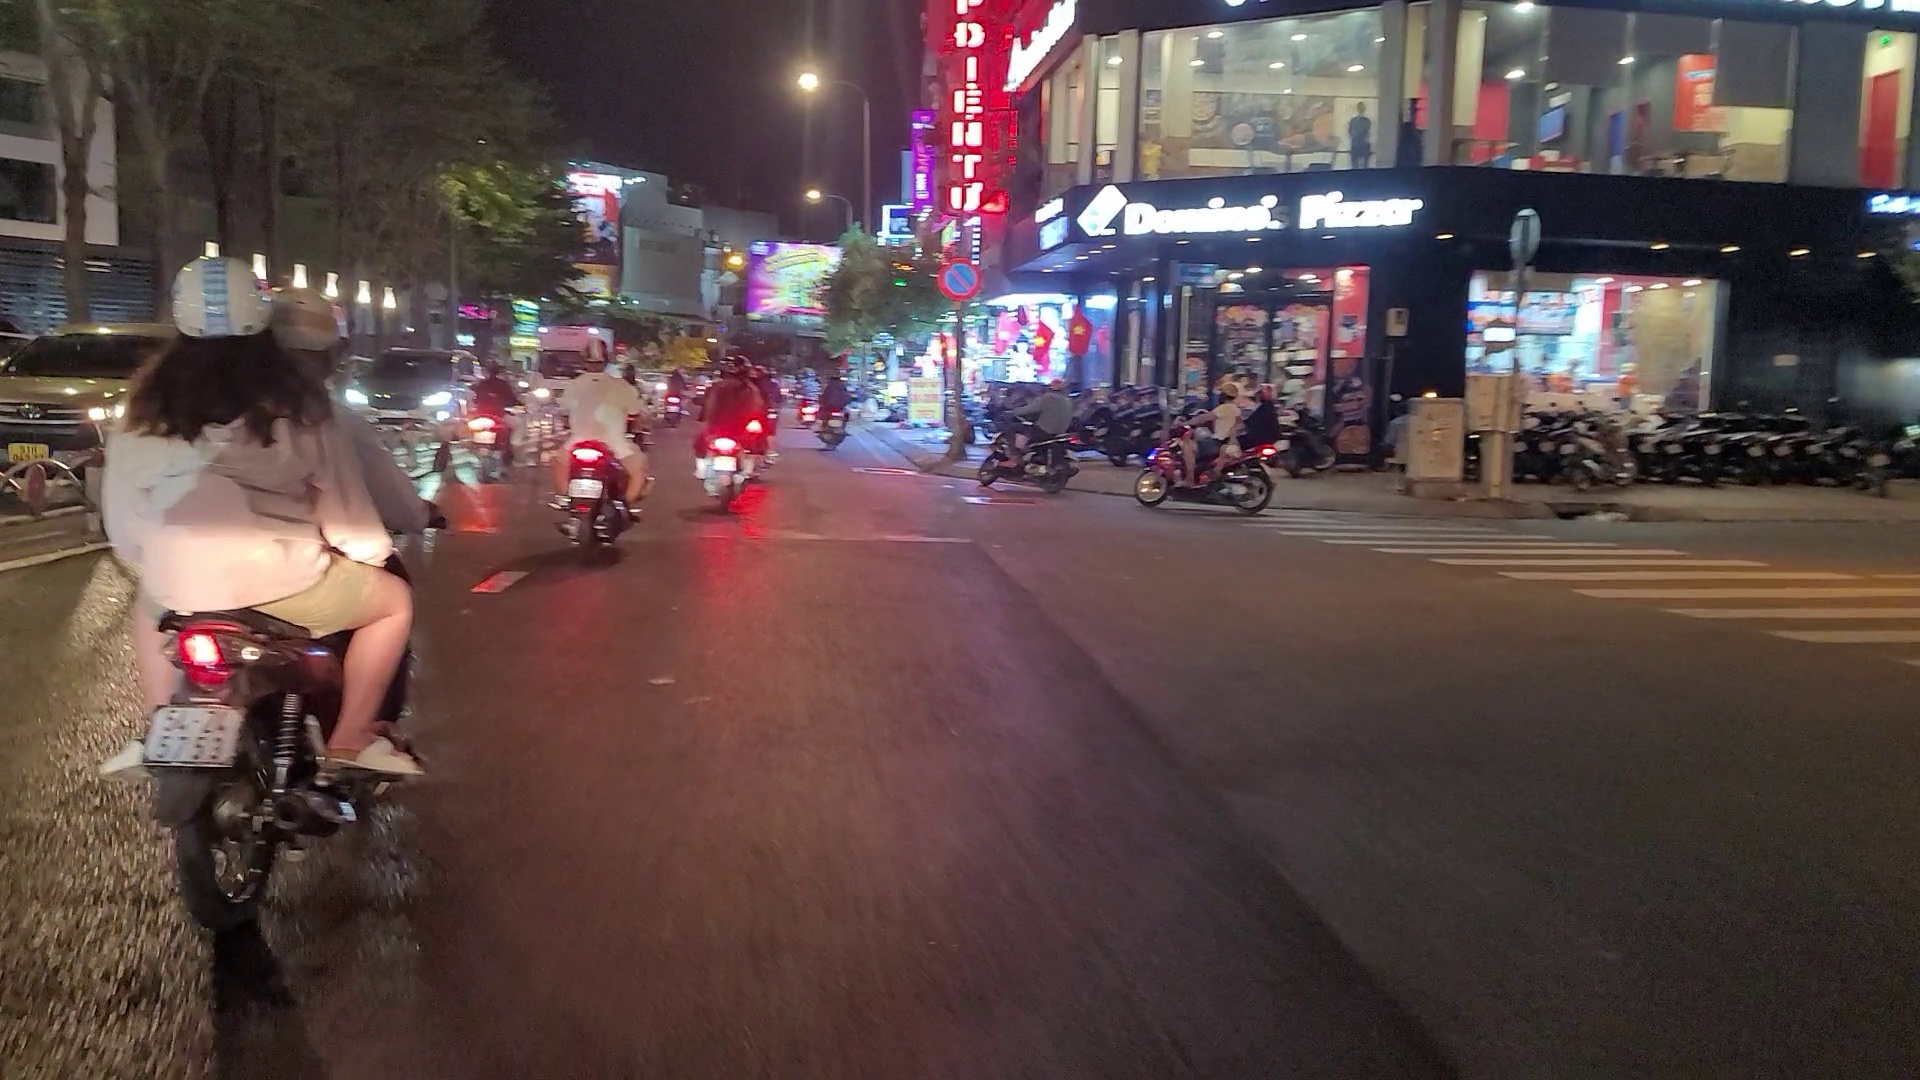Cam do xe: (938, 256, 981, 301)
